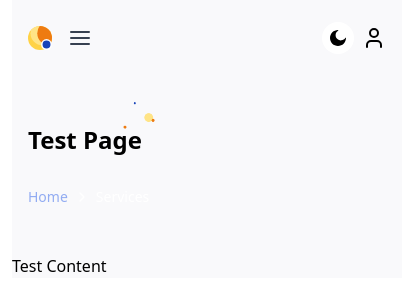
Test: PageLayout - Interactive Tests › clicking Sign In in mobile dropdown closes the menu
Step 1. Click the button named "Toggle auth menu" → (374, 38), box [362,16,386,60]
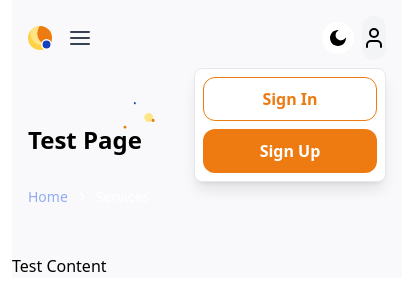
Result: the element with class "top-full" is shown at [194,68,386,182]
Result: the link to "/signin" is shown
Step 2. Click the link to "/signin" → (290, 103), box [195,77,385,129]
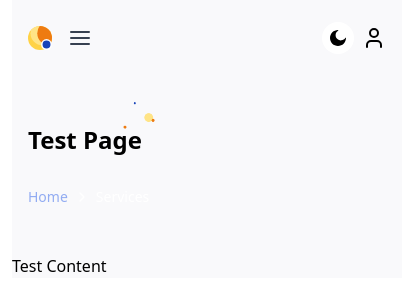
Result: the element with class "top-full" is gone
